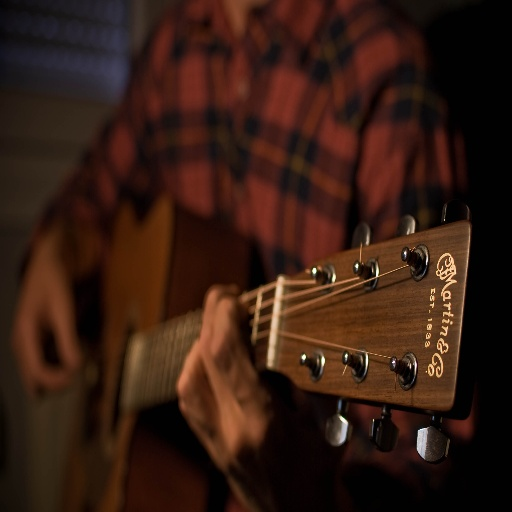hand: (158, 276, 281, 479), (10, 243, 88, 412)
